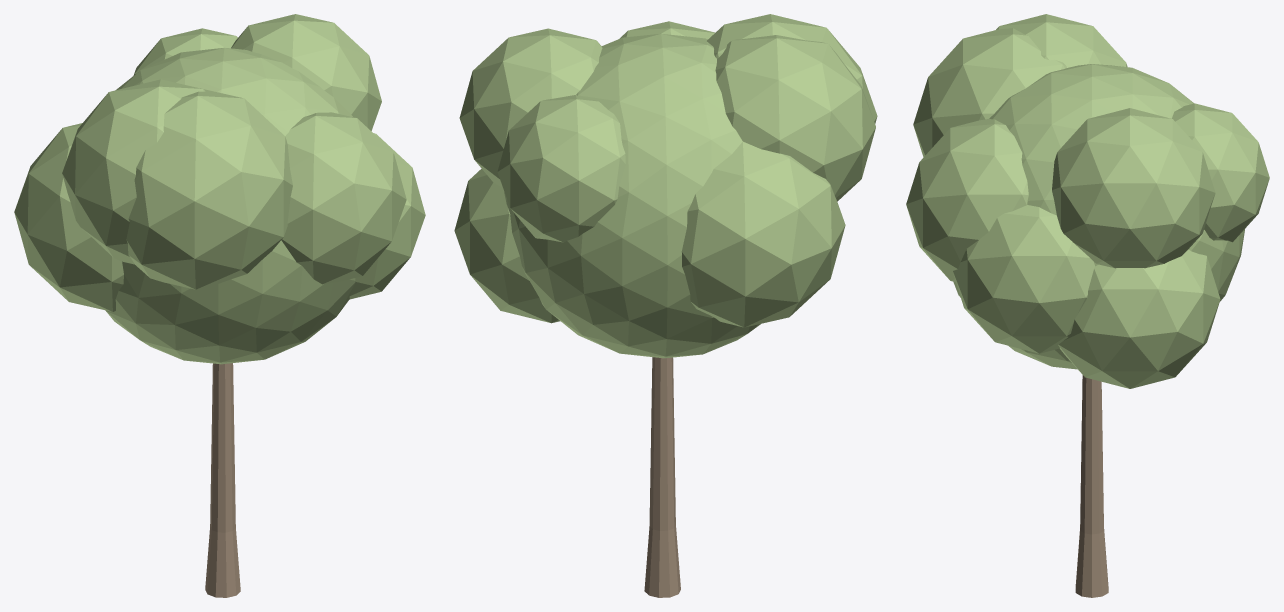
File: tree_b.glb
3 views of the same model, side by side, from view 1: azimuth 30°, elevation 25°; view 2: azimuth 150°, elevation 25°; view 3: azimuth 270°, elevation 25° (orthographic). The views are drawn at different scales.
Visible parts, largest first — view 1: tree_b_leaf2, tree_b_bark; view 2: tree_b_leaf2, tree_b_bark; view 3: tree_b_leaf2, tree_b_bark.
Part boxes in pixels (x1=…): tree_b_leaf2: x1=14, y1=14, x2=425, y2=364; tree_b_bark: x1=205, y1=363, x2=240, y2=597; tree_b_leaf2: x1=454, y1=14, x2=877, y2=358; tree_b_bark: x1=644, y1=357, x2=680, y2=597; tree_b_leaf2: x1=906, y1=14, x2=1269, y2=388; tree_b_bark: x1=1075, y1=375, x2=1108, y2=597.
Size of the model in its own units: 4.07 by 6.01 by 3.76.
